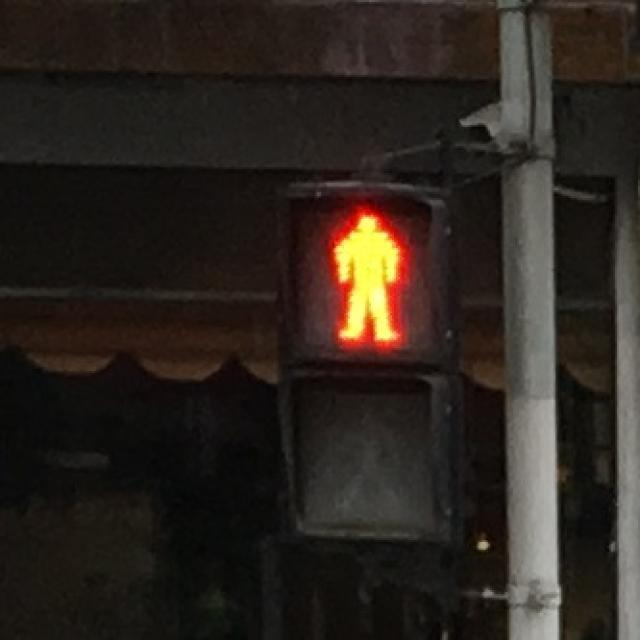red-crossing: (306, 196, 422, 354)
